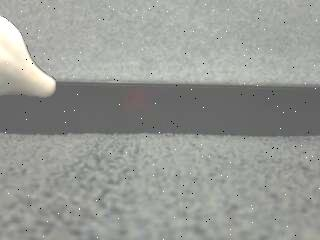Garlic: (0, 15, 57, 98)
